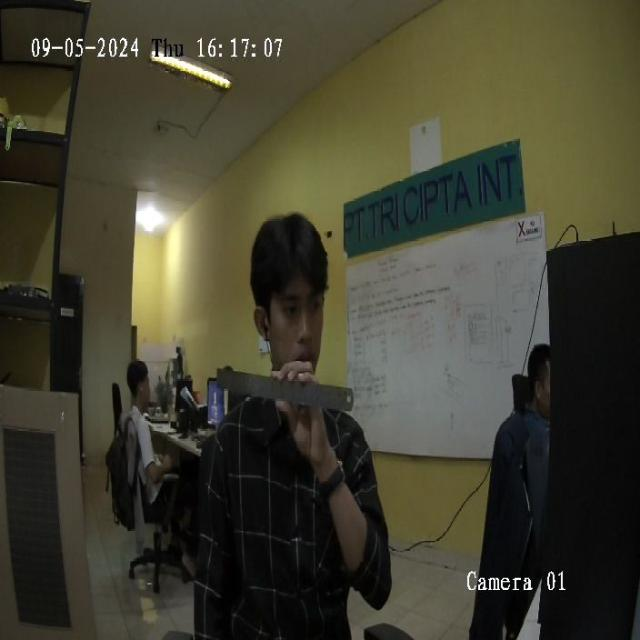Ruler: (215, 368, 353, 410)
